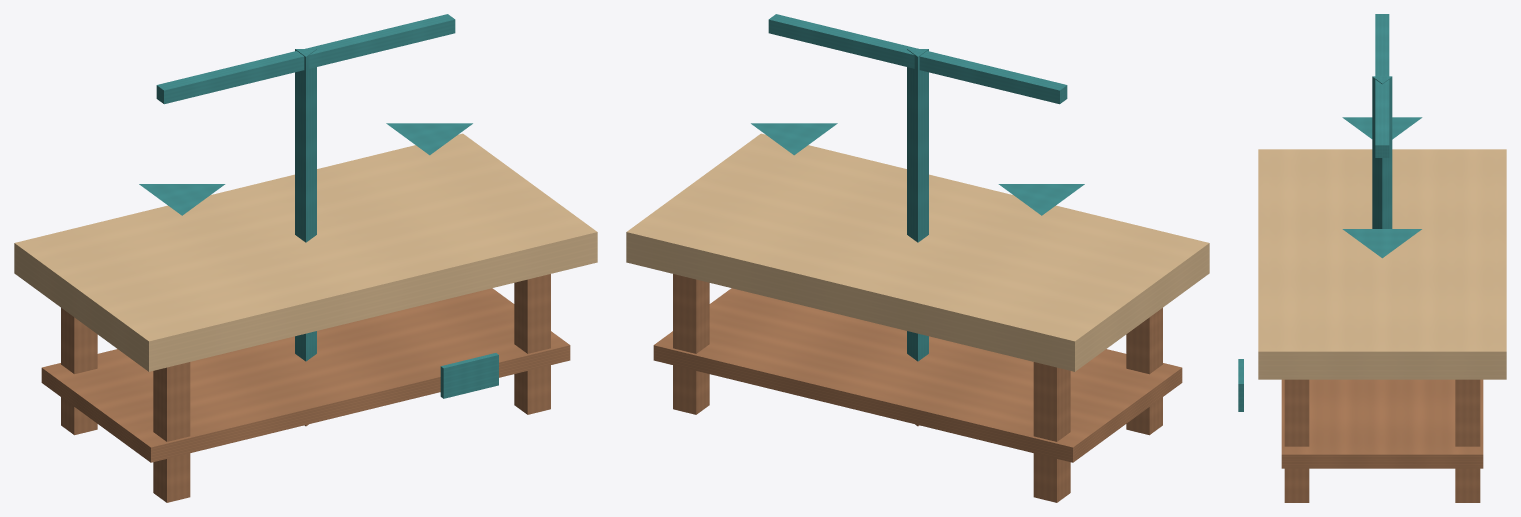
File: atlas100-s091-a02.lod2.glb
3 renders of one model, left to right at view 1: azimuth 30°, elevation 25°; view 2: azimuth 150°, elevation 25°; view 3: azimuth 270°, elevation 25°, orthographic. The views are drawn at different scales.
Parts seen in each view (by area): view 1: atlas100-s091-a02:part-004, atlas100-s091-a02:part-005, atlas100-s091-a02:part-008, atlas100-s091-a02:part-006, atlas100-s091-a02:part-001, atlas100-s091-a02:part-003, atlas100-s091-a02:part-000, atlas100-s091-a02:part-013, atlas100-s091-a02:part-012, atlas100-s091-a02:part-010; view 2: atlas100-s091-a02:part-004, atlas100-s091-a02:part-005, atlas100-s091-a02:part-008, atlas100-s091-a02:part-006, atlas100-s091-a02:part-000, atlas100-s091-a02:part-002, atlas100-s091-a02:part-001, atlas100-s091-a02:part-012, atlas100-s091-a02:part-010; view 3: atlas100-s091-a02:part-004, atlas100-s091-a02:part-005, atlas100-s091-a02:part-002, atlas100-s091-a02:part-003, atlas100-s091-a02:part-006, atlas100-s091-a02:part-008, atlas100-s091-a02:part-012, atlas100-s091-a02:part-010, atlas100-s091-a02:part-013.
Boxes of the visible parts, box(x1,y1,x2,y2) form: atlas100-s091-a02:part-004: box(14, 133, 597, 371); atlas100-s091-a02:part-005: box(41, 288, 570, 462); atlas100-s091-a02:part-008: box(156, 14, 455, 104); atlas100-s091-a02:part-006: box(295, 49, 316, 361); atlas100-s091-a02:part-001: box(153, 362, 190, 502); atlas100-s091-a02:part-003: box(514, 274, 550, 414); atlas100-s091-a02:part-000: box(61, 308, 97, 435); atlas100-s091-a02:part-013: box(440, 353, 498, 398); atlas100-s091-a02:part-012: box(386, 123, 472, 155); atlas100-s091-a02:part-010: box(139, 184, 225, 215); atlas100-s091-a02:part-004: box(626, 133, 1209, 371); atlas100-s091-a02:part-005: box(653, 288, 1182, 462); atlas100-s091-a02:part-008: box(768, 14, 1067, 104); atlas100-s091-a02:part-006: box(907, 49, 928, 361); atlas100-s091-a02:part-000: box(1033, 362, 1070, 502); atlas100-s091-a02:part-002: box(673, 274, 709, 414); atlas100-s091-a02:part-001: box(1126, 308, 1162, 435); atlas100-s091-a02:part-012: box(751, 123, 837, 155); atlas100-s091-a02:part-010: box(998, 184, 1084, 215); atlas100-s091-a02:part-004: box(1258, 149, 1506, 379); atlas100-s091-a02:part-005: box(1281, 379, 1483, 468); atlas100-s091-a02:part-002: box(1455, 379, 1480, 502); atlas100-s091-a02:part-003: box(1284, 379, 1309, 502); atlas100-s091-a02:part-006: box(1372, 76, 1392, 228); atlas100-s091-a02:part-008: box(1375, 14, 1389, 157); atlas100-s091-a02:part-012: box(1342, 229, 1421, 258); atlas100-s091-a02:part-010: box(1342, 117, 1422, 139); atlas100-s091-a02:part-013: box(1238, 359, 1243, 411).
Size of the model in its own units: 3.08 by 2.4 by 1.73.
Materials: 3 (3 with a texture image).
